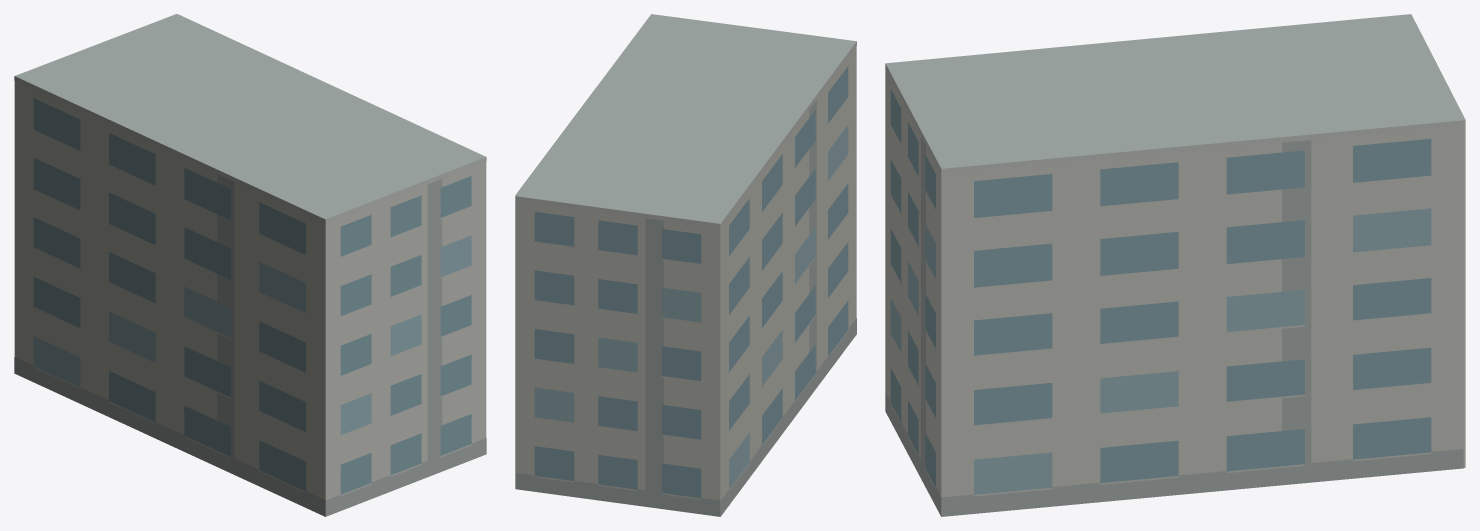
File: survey-upis-32804698.glb
3 views of the same model, side by side, from view 1: azimuth 30°, elevation 25°; view 2: azimuth 150°, elevation 25°; view 3: azimuth 270°, elevation 25° (orthographic). The views are drawn at different scales.
Visible parts, largest first — view 1: survey-upis-32804698.tmp; view 2: survey-upis-32804698.tmp; view 3: survey-upis-32804698.tmp.
Part boxes in pixels (bbox=[...]): survey-upis-32804698.tmp: bbox=[14, 14, 486, 516]; survey-upis-32804698.tmp: bbox=[515, 14, 856, 516]; survey-upis-32804698.tmp: bbox=[885, 14, 1465, 516].
Bounding box in the file's own units: 14.55 × 15.25 × 23.04.
